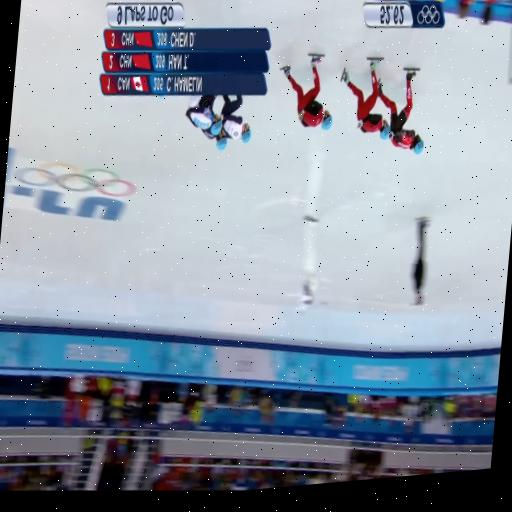Skater: (341, 58, 391, 139), (281, 54, 332, 129), (379, 68, 423, 153), (186, 94, 223, 134), (222, 95, 251, 142), (202, 126, 227, 149)
